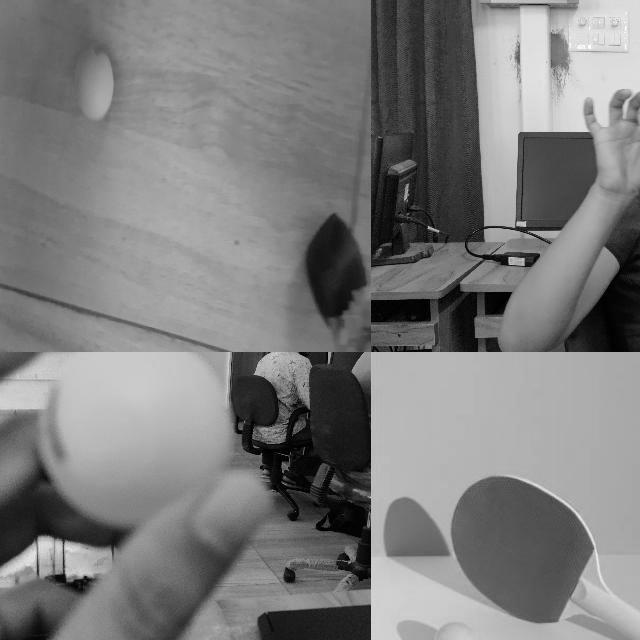ping-pong-ball: (38, 352, 231, 531), (76, 42, 112, 120), (434, 623, 476, 639)
